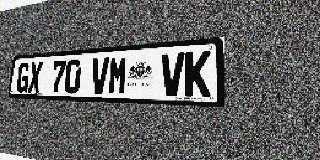0: (64, 59, 82, 94)
7: (50, 60, 66, 94)
G: (16, 62, 30, 93)
K: (184, 51, 211, 97)
M: (108, 56, 128, 95)
V: (160, 52, 185, 96), (90, 57, 110, 94)
X: (28, 62, 43, 93)
